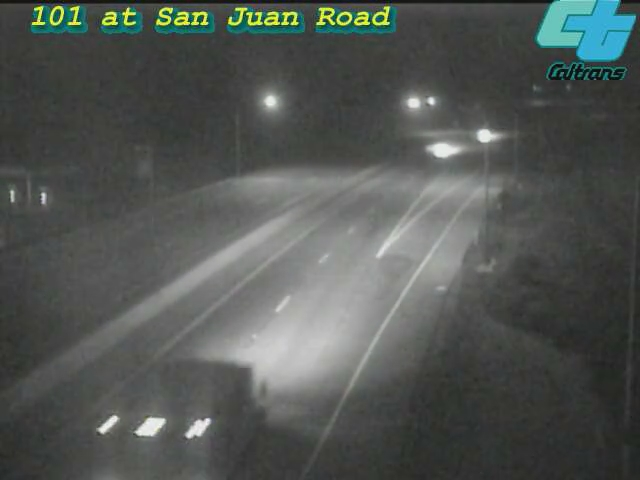vehicle: (108, 379, 218, 480), (460, 112, 510, 162), (417, 125, 467, 175)
